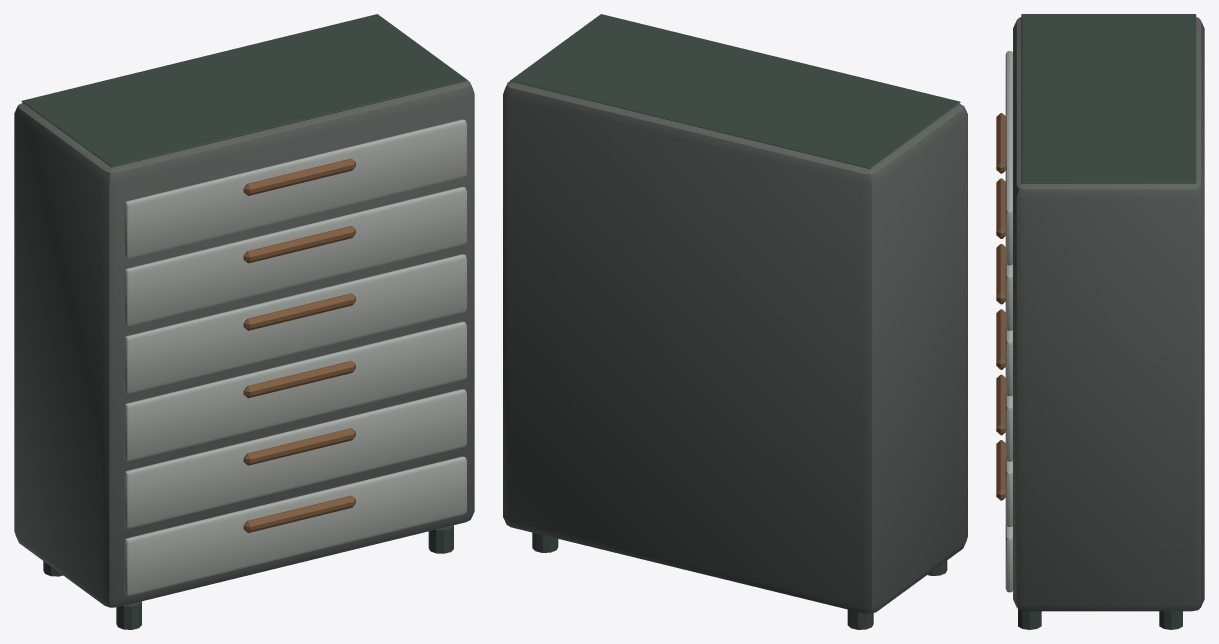
Rendered from tool_cabinet.glb.
The picture shows the model from 3 angles, left to right: view 1: azimuth 30°, elevation 25°; view 2: azimuth 150°, elevation 25°; view 3: azimuth 270°, elevation 25°; orthographic projection. The views are drawn at different scales.
Visible parts, largest first — view 1: FURN-tool_cabinet; view 2: FURN-tool_cabinet; view 3: FURN-tool_cabinet.
Boxes of the visible parts, x1,y1,x2,y2 form: FURN-tool_cabinet: (14,14,474,629); FURN-tool_cabinet: (503,14,967,629); FURN-tool_cabinet: (996,14,1204,629).
Bounding box in the file's own units: 1 × 1.2 × 0.5.
